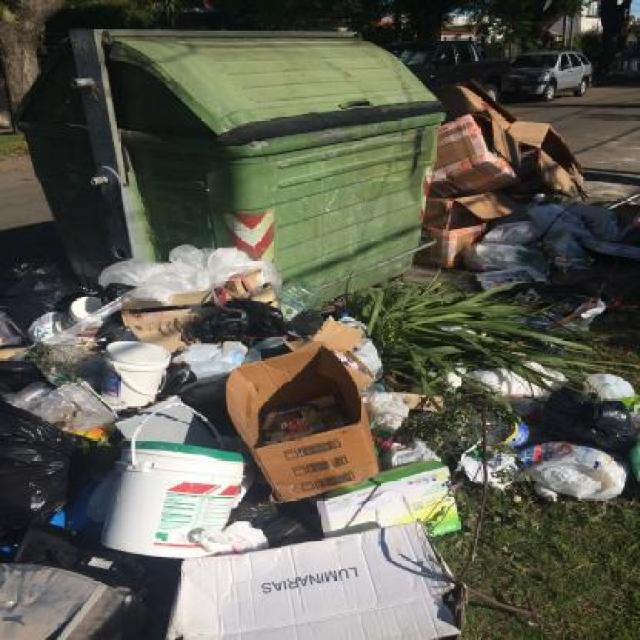garbage: (0, 425, 494, 639), (13, 250, 333, 536), (423, 88, 640, 290), (432, 310, 640, 506)
